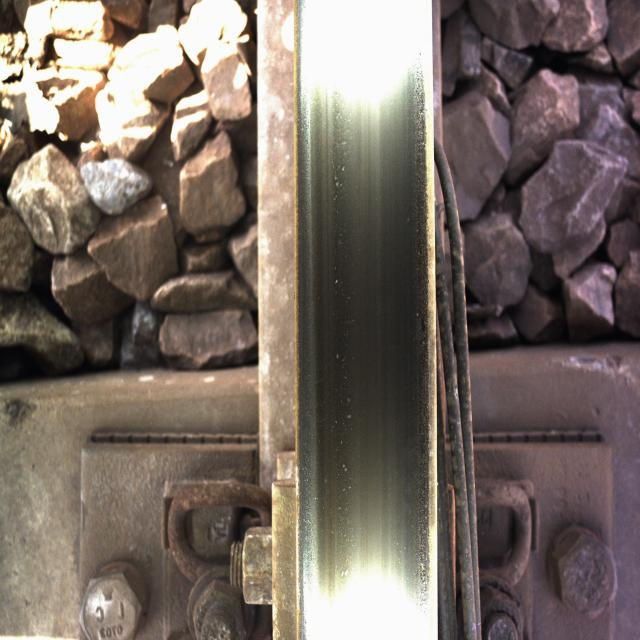normal: (311, 35, 415, 591)
